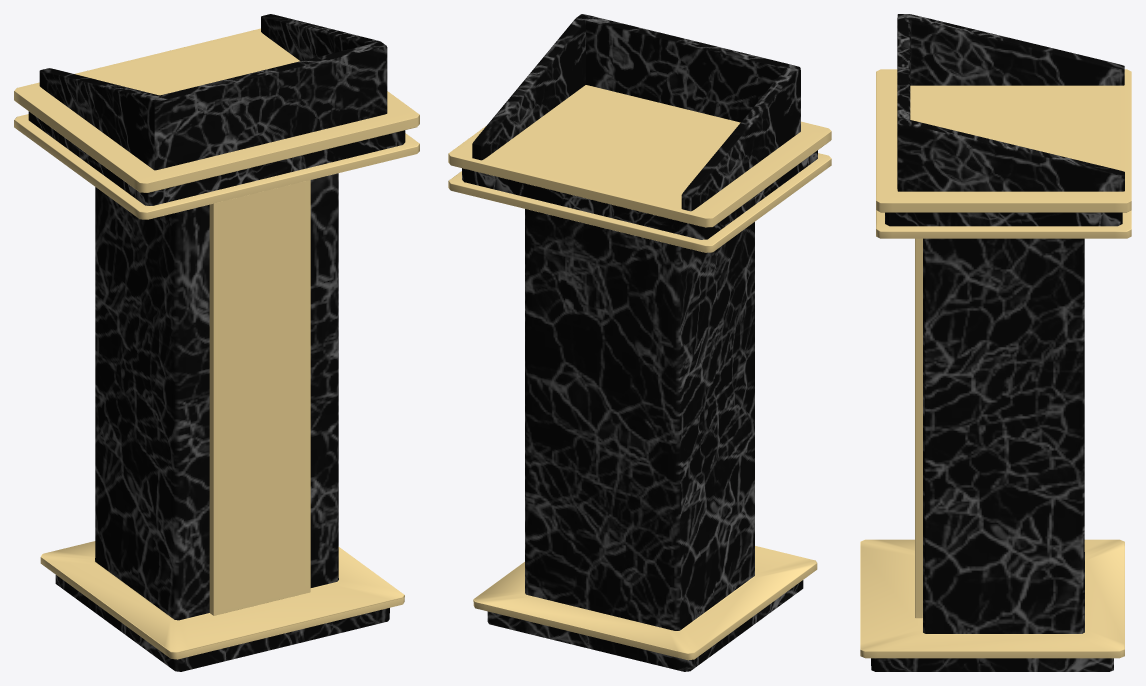
File: lectern-black.glb
The picture shows the model from 3 angles, left to right: view 1: azimuth 30°, elevation 25°; view 2: azimuth 150°, elevation 25°; view 3: azimuth 270°, elevation 25°; orthographic projection. The views are drawn at different scales.
Visible parts, largest first — view 1: model_1; view 2: model_1; view 3: model_1.
Boxes of the visible parts, <box> form: model_1: <box>14,14,419,671</box>; model_1: <box>448,14,831,671</box>; model_1: <box>860,14,1131,671</box>.
Bounding box in the file's own units: 0.8811 × 1.69 × 0.755.
Materials: 1 (1 with a texture image).
